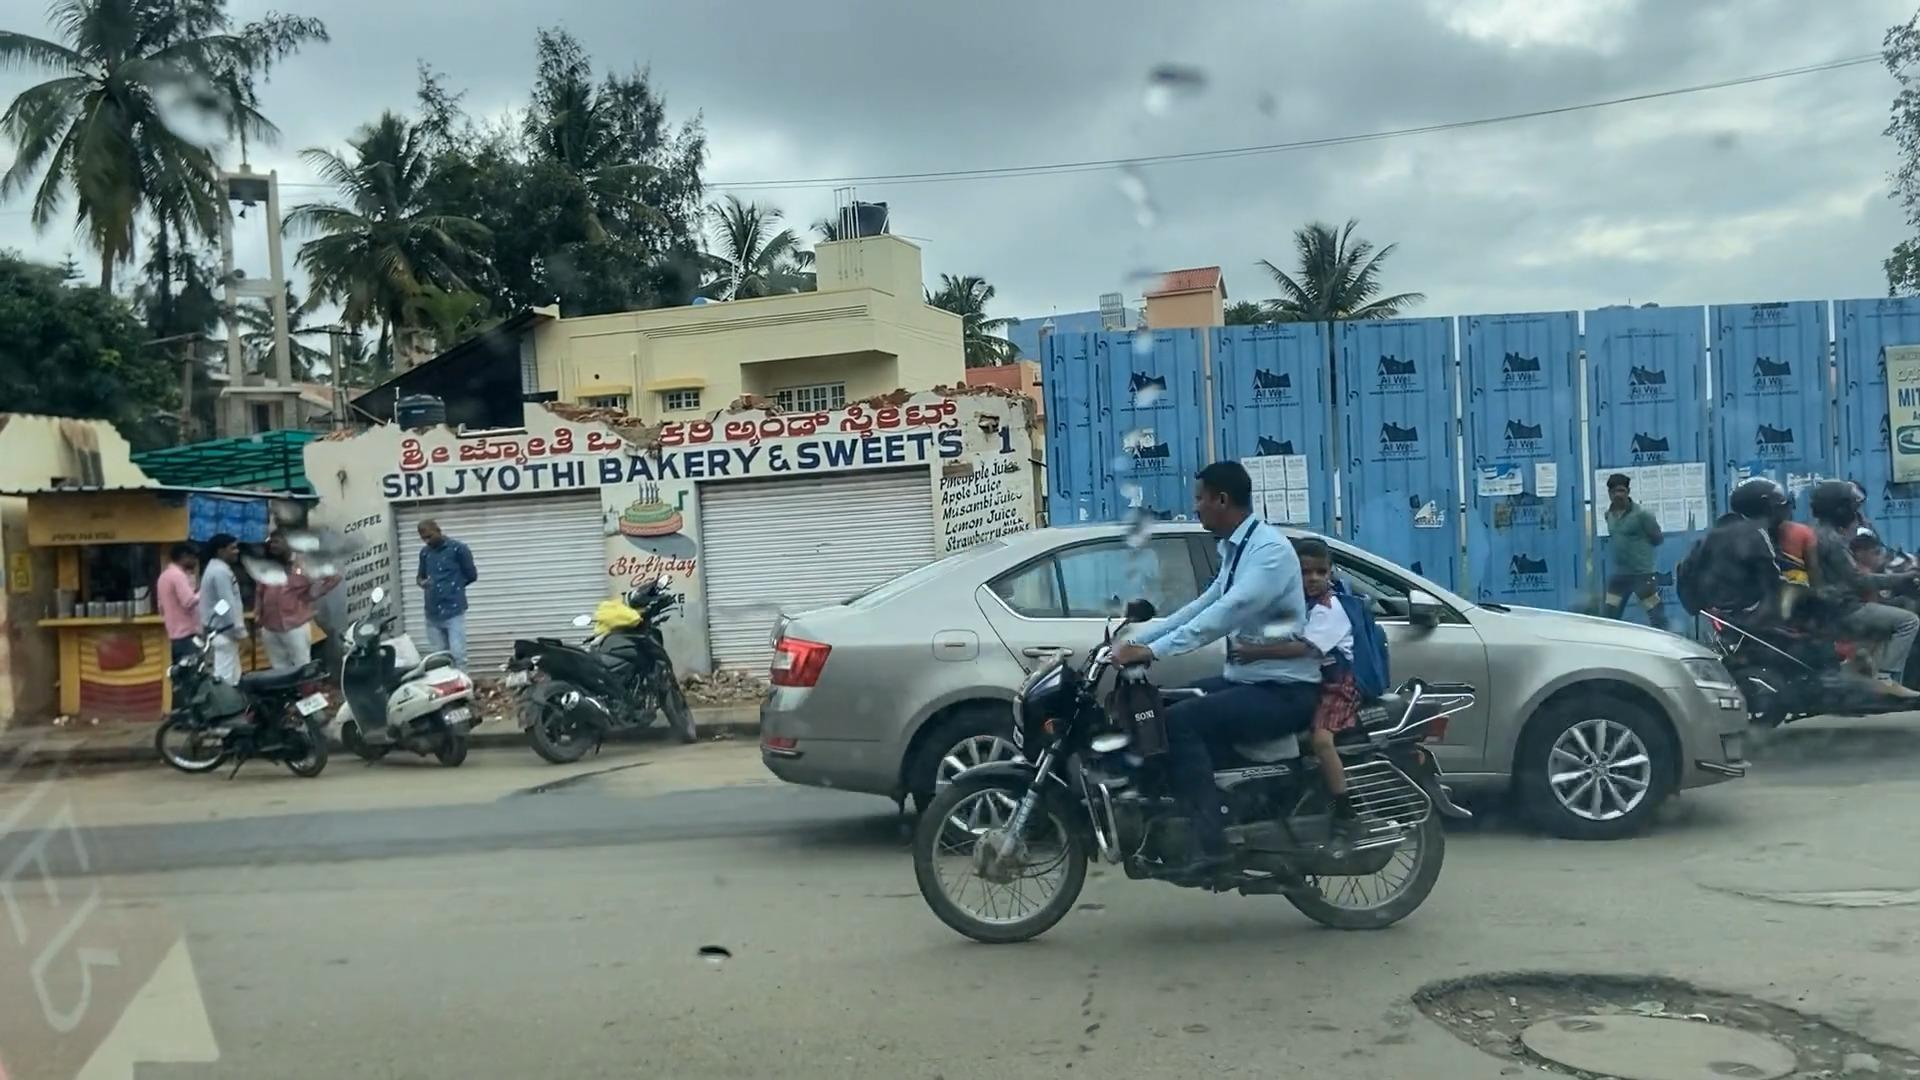LMV: (901, 491, 1394, 913)
RoadDamages: (1385, 967, 1878, 1080), (1676, 844, 1920, 927)
